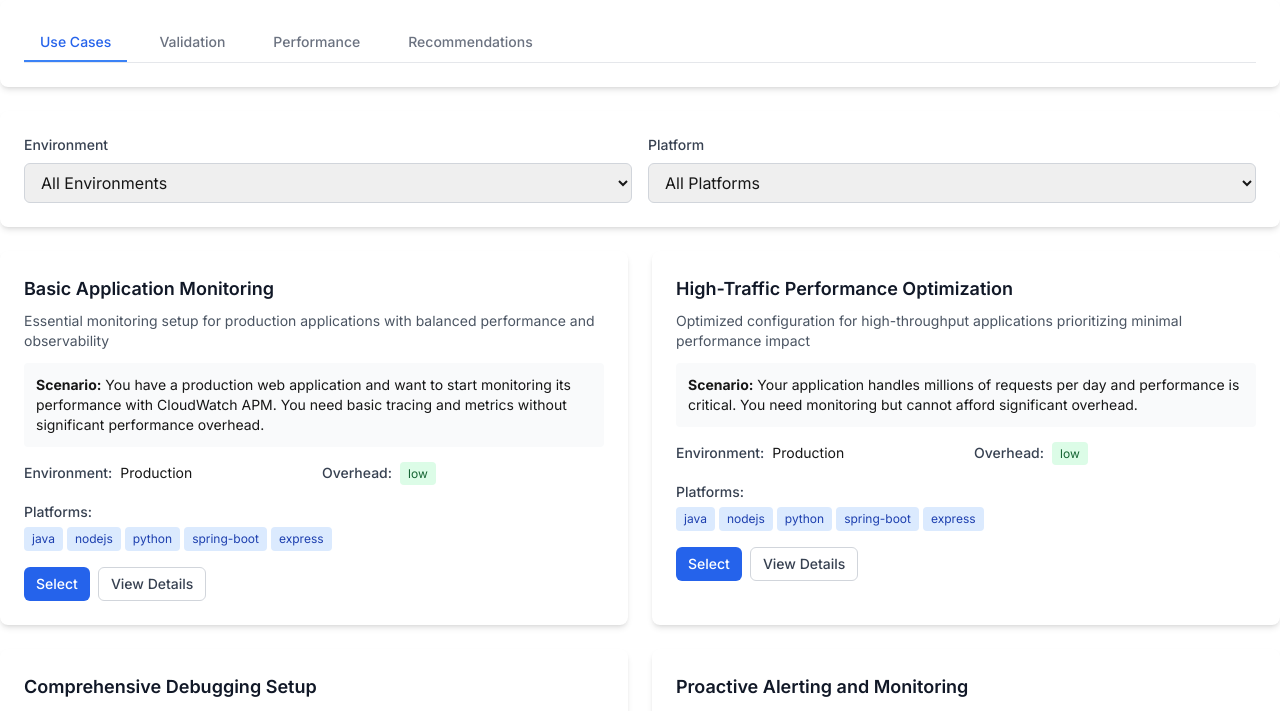
it: ConfigurationValidationTools › Performance Tab › should switch to performance tab
Click the button "Performance" at (317, 43), box x1=257 y1=24 x2=376 y2=62
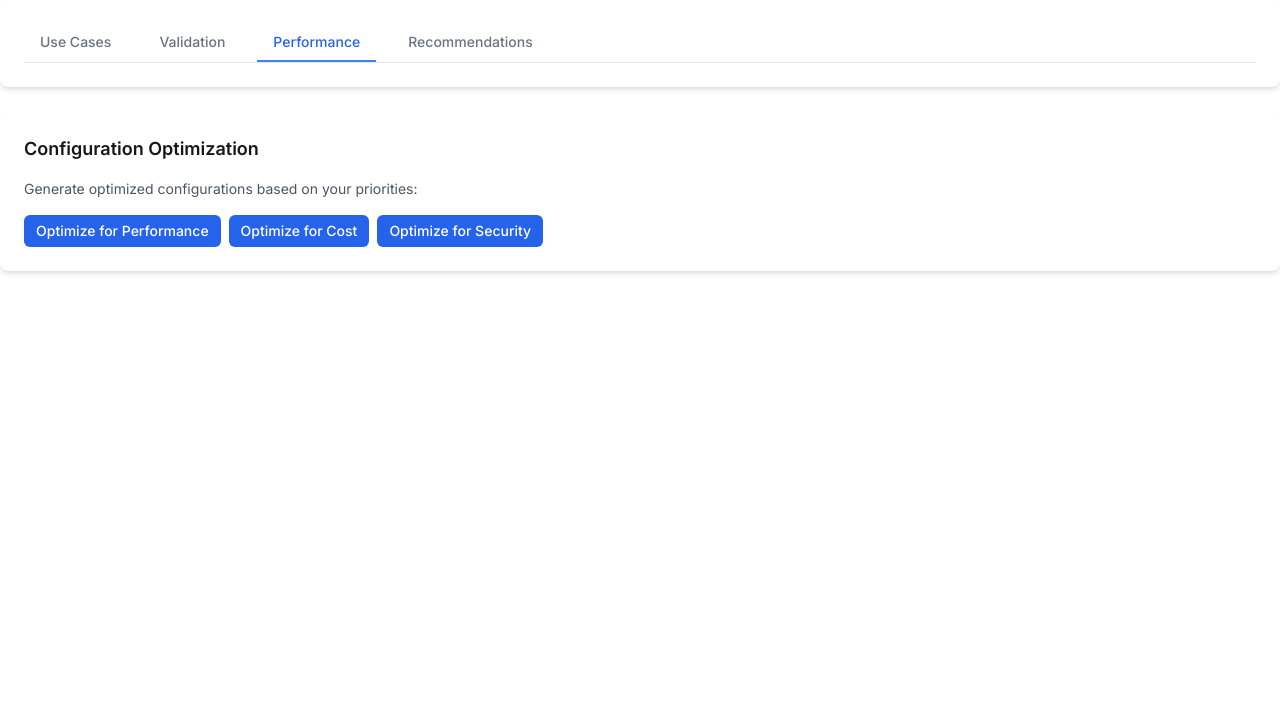
Now the heading "Configuration Optimization" is shown, box x1=24 y1=138 x2=259 y2=159
